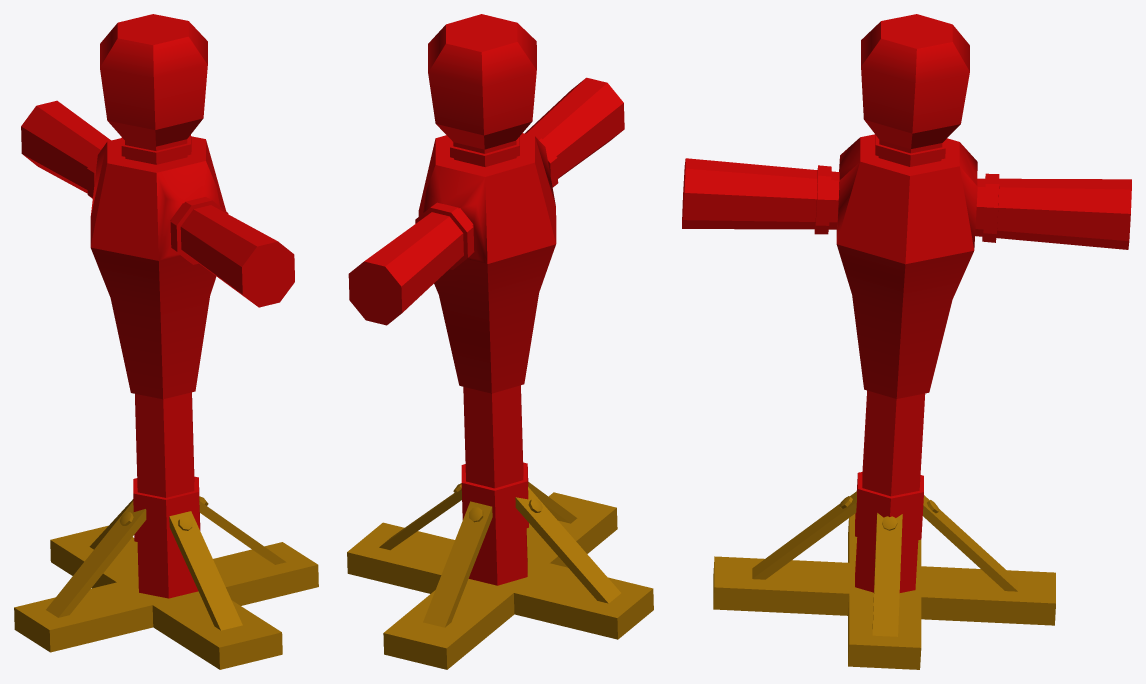
File: DummySeminarioAtaque1.fbx
The picture shows the model from 3 angles, left to right: view 1: azimuth 30°, elevation 25°; view 2: azimuth 150°, elevation 25°; view 3: azimuth 270°, elevation 25°; orthographic projection.
Visible parts, largest first — view 1: pCylinder1, pCube2, pCube5, pCube4, pCube6; view 2: pCylinder1, pCube2, pCube3, pCube4, pCube6, pCube5; view 3: pCylinder1, pCube2, pCube6, pCube5, pCube3.
Part boxes in pixels (x1=…): pCylinder1: x1=21, y1=14, x2=294, y2=598; pCube2: x1=14, y1=525, x2=318, y2=669; pCube5: x1=169, y1=511, x2=242, y2=630; pCube4: x1=46, y1=501, x2=146, y2=617; pCube6: x1=199, y1=501, x2=286, y2=564; pCylinder1: x1=348, y1=14, x2=624, y2=585; pCube2: x1=347, y1=492, x2=653, y2=669; pCube3: x1=423, y1=501, x2=492, y2=627; pCube4: x1=515, y1=487, x2=620, y2=603; pCube6: x1=379, y1=489, x2=461, y2=550; pCube5: x1=528, y1=482, x2=577, y2=523; pCylinder1: x1=682, y1=14, x2=1131, y2=592; pCube2: x1=713, y1=513, x2=1055, y2=669; pCube6: x1=872, y1=513, x2=902, y2=636; pCube5: x1=752, y1=491, x2=856, y2=579; pCube3: x1=922, y1=495, x2=1018, y2=591.
Size of the model in its own units: 2.11 by 4.32 by 3.03.
